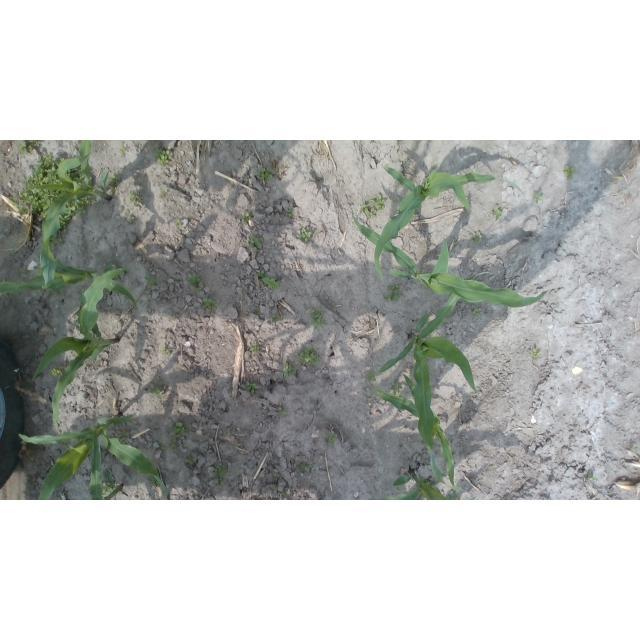Maize: (351, 208, 548, 309), (380, 292, 479, 492), (374, 164, 526, 275), (33, 267, 126, 439), (20, 413, 169, 500), (27, 140, 113, 289), (367, 374, 456, 491), (0, 258, 138, 312), (88, 425, 124, 500), (381, 469, 447, 500)
Weeds: (13, 152, 67, 219), (58, 195, 96, 228), (359, 195, 385, 220), (296, 347, 321, 367), (47, 228, 66, 252), (65, 165, 86, 185), (153, 147, 174, 167), (171, 420, 189, 440), (311, 307, 325, 329), (17, 140, 39, 154), (295, 460, 314, 476), (247, 236, 264, 253), (384, 286, 401, 303), (262, 276, 281, 291), (212, 461, 228, 478), (388, 380, 404, 397), (258, 167, 275, 182), (49, 365, 65, 380), (128, 190, 144, 205), (201, 298, 217, 313), (187, 276, 201, 293), (423, 479, 439, 492), (245, 380, 258, 396), (46, 286, 64, 297), (300, 228, 313, 243), (283, 363, 296, 378), (145, 276, 160, 289), (118, 429, 130, 445), (108, 172, 121, 186), (100, 481, 112, 495), (564, 165, 576, 179), (527, 348, 541, 360), (161, 442, 176, 453), (325, 434, 337, 447), (492, 205, 502, 220), (364, 373, 377, 384), (473, 232, 484, 245), (471, 305, 482, 316), (150, 476, 160, 488), (535, 190, 544, 203), (250, 343, 261, 353), (12, 343, 24, 352), (241, 212, 252, 221), (185, 455, 194, 465), (449, 491, 459, 500), (151, 387, 161, 396), (279, 408, 290, 416), (87, 164, 93, 177), (588, 472, 597, 480), (216, 480, 225, 488), (161, 346, 169, 355), (128, 216, 137, 224), (160, 186, 168, 194), (19, 268, 26, 277), (272, 316, 281, 323), (286, 207, 292, 217), (630, 445, 638, 452), (257, 269, 263, 278), (273, 483, 280, 490), (108, 186, 114, 194), (120, 146, 126, 153), (435, 417, 441, 424), (175, 219, 181, 225), (256, 307, 261, 312), (172, 317, 177, 322), (280, 476, 284, 481), (128, 472, 132, 476)
